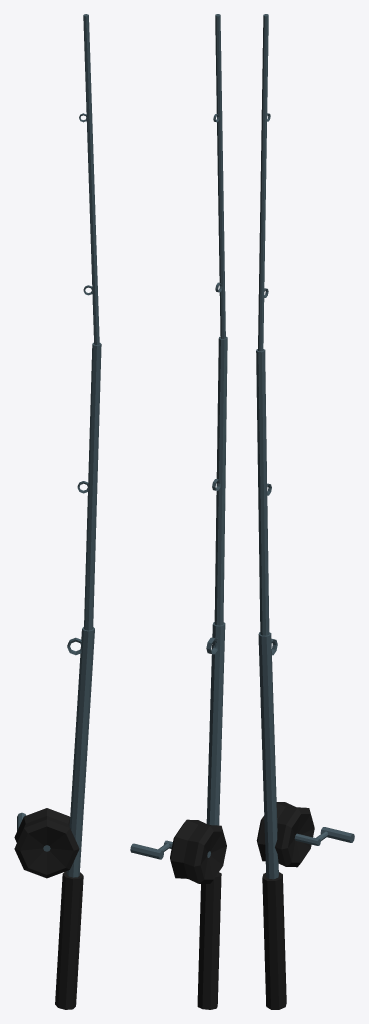
The model's file is fishing_pole_01.obj.
3 renders of one model, left to right at view 1: azimuth 90°, elevation 25°; view 2: azimuth 150°, elevation 25°; view 3: azimuth 330°, elevation 25°, orthographic.
Parts seen in each view (by area): view 1: Fishing_Pole_Circle.001; view 2: Fishing_Pole_Circle.001; view 3: Fishing_Pole_Circle.001.
Part boxes in pixels (x1=…): Fishing_Pole_Circle.001: x1=14, y1=14, x2=101, y2=1009; Fishing_Pole_Circle.001: x1=130, y1=14, x2=227, y2=1009; Fishing_Pole_Circle.001: x1=256, y1=14, x2=354, y2=1009.
Bounding box in the file's own units: 2 × 27.49 × 2.19.
